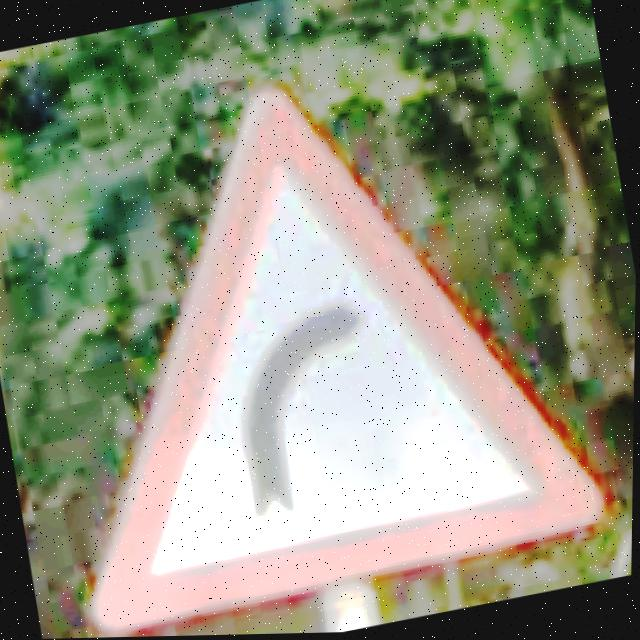rightbend: (94, 93, 610, 638)
